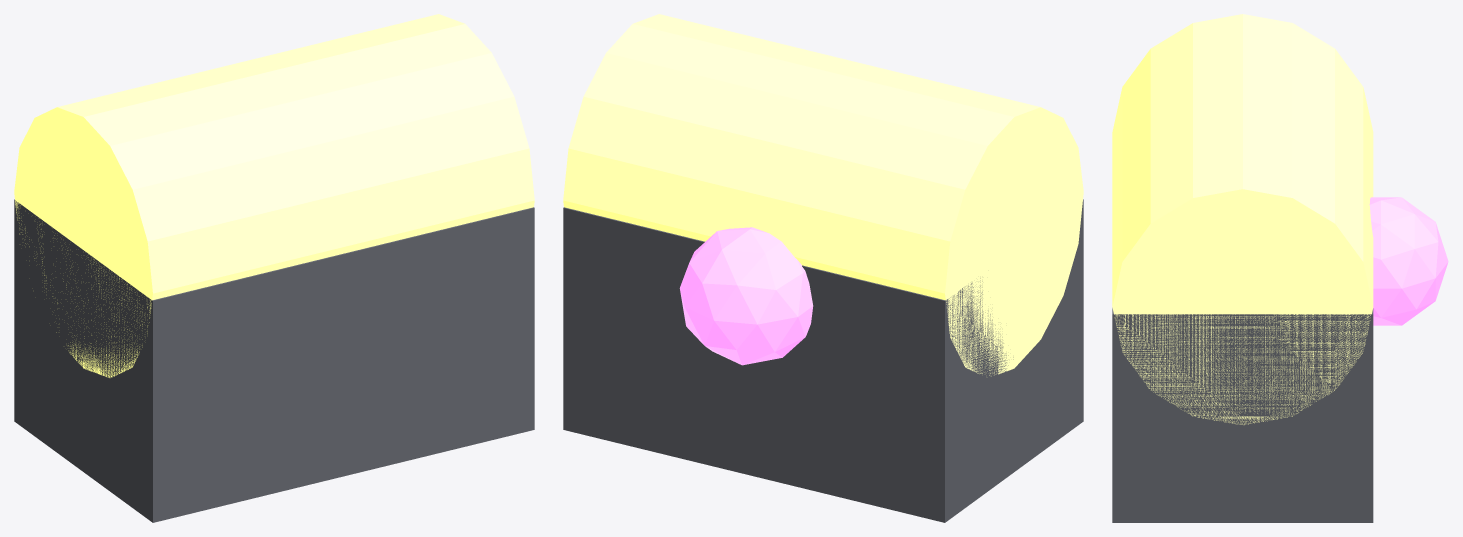
Rendered from mythic_chest.glb.
The picture shows the model from 3 angles, left to right: view 1: azimuth 30°, elevation 25°; view 2: azimuth 150°, elevation 25°; view 3: azimuth 270°, elevation 25°; orthographic projection. The views are drawn at different scales.
Visible parts, largest first — view 1: Cube, Cylinder; view 2: Cylinder, Cube, Icosphere; view 3: Cylinder, Cube, Icosphere.
Part boxes in pixels (x1,y1,x2,y2): Cube: [14, 199, 534, 522]; Cylinder: [14, 14, 534, 377]; Cylinder: [563, 14, 1083, 376]; Cube: [563, 199, 1083, 522]; Icosphere: [679, 227, 813, 365]; Cylinder: [1112, 14, 1373, 424]; Cube: [1112, 308, 1373, 522]; Icosphere: [1369, 197, 1448, 325].
Bounding box in the file's own units: 1.35 × 1.2 × 1.09.
